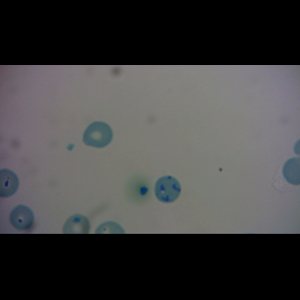aggregate reticulocyte: (153, 175, 182, 204)
erythrocyte: (81, 121, 114, 149), (8, 204, 35, 231)
